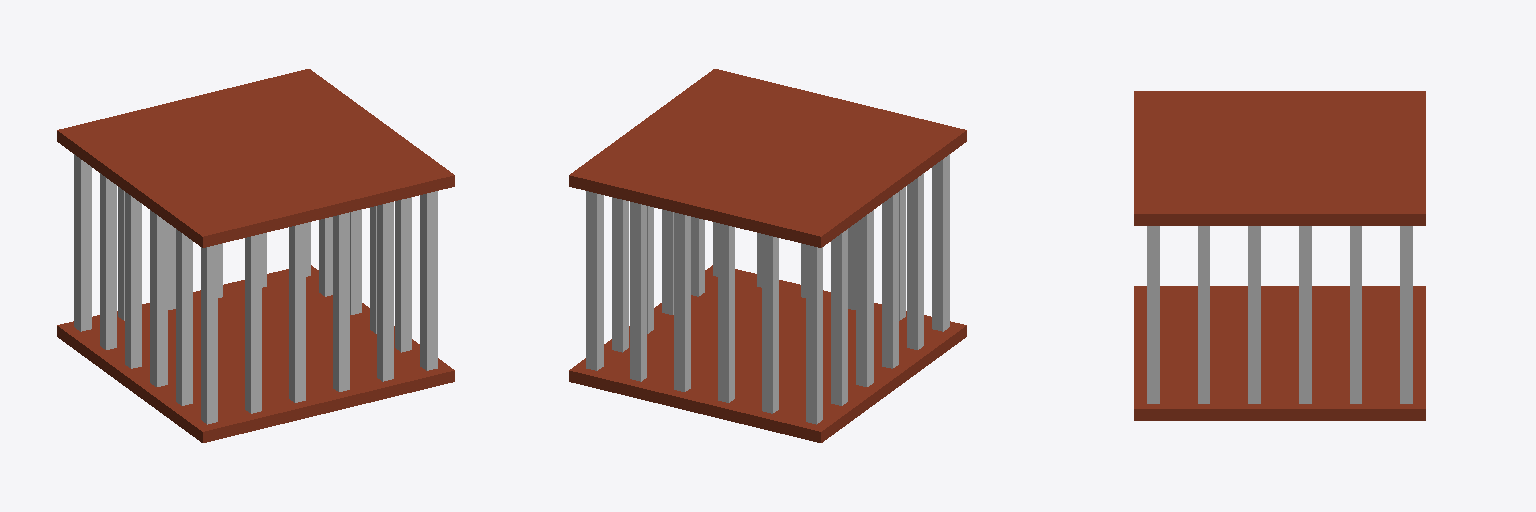
The picture shows the model from 3 angles: view 1: azimuth 30°, elevation 25°; view 2: azimuth 150°, elevation 25°; view 3: azimuth 270°, elevation 25°; orthographic projection.
Parts seen in each view (by area): view 1: object 1; view 2: object 1; view 3: object 1.
Part boxes in pixels (left/top/right/bottom): object 1: left=57, top=69, right=454, bottom=442; object 1: left=569, top=69, right=966, bottom=442; object 1: left=1134, top=91, right=1425, bottom=420.
Size of the model in its own units: 4.6 by 3.6 by 4.6.
1 materials, 1 textured.